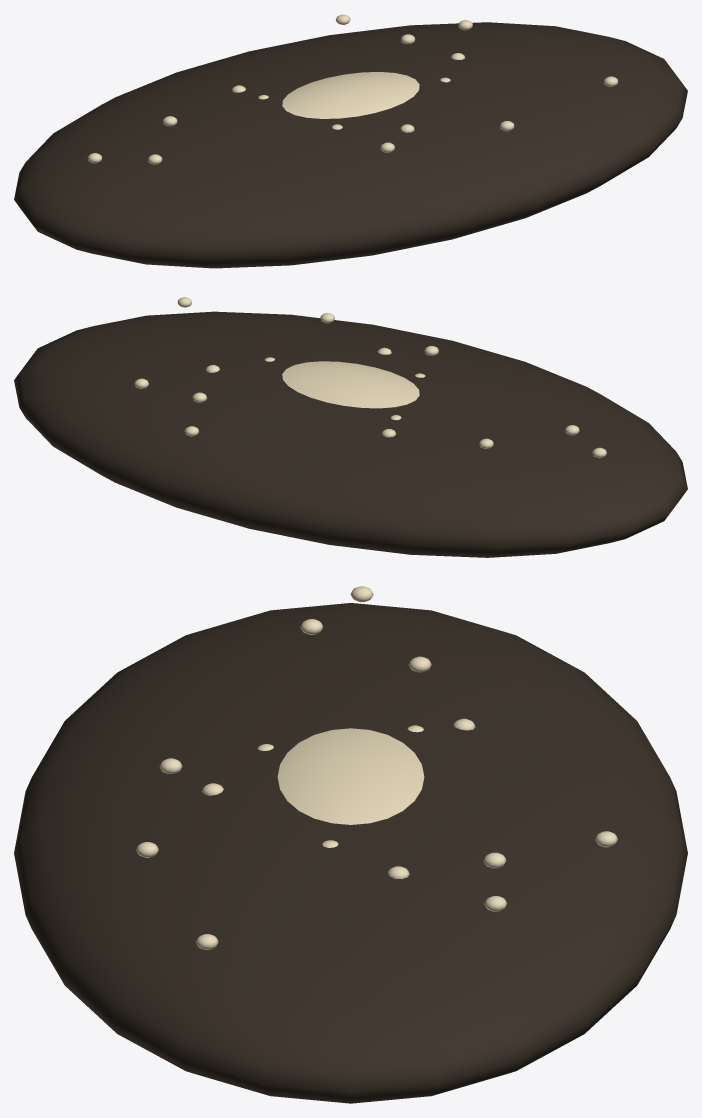
The model's file is elliptical_galaxy.glb.
3 views of the same model, one above another, from view 1: azimuth 30°, elevation 25°; view 2: azimuth 150°, elevation 25°; view 3: azimuth 270°, elevation 25° (orthographic). The views are drawn at different scales.
Visible parts, largest first — view 1: elliptical_galaxy_textured_mesh; view 2: elliptical_galaxy_textured_mesh; view 3: elliptical_galaxy_textured_mesh.
Boxes of the visible parts, x1,y1,x2,y2 form: elliptical_galaxy_textured_mesh: (14,14,687,268); elliptical_galaxy_textured_mesh: (14,297,687,557); elliptical_galaxy_textured_mesh: (14,586,687,1103).
Bounding box in the file's own units: 3.92 × 0.63 × 2.34.
1 material, 1 textured.
